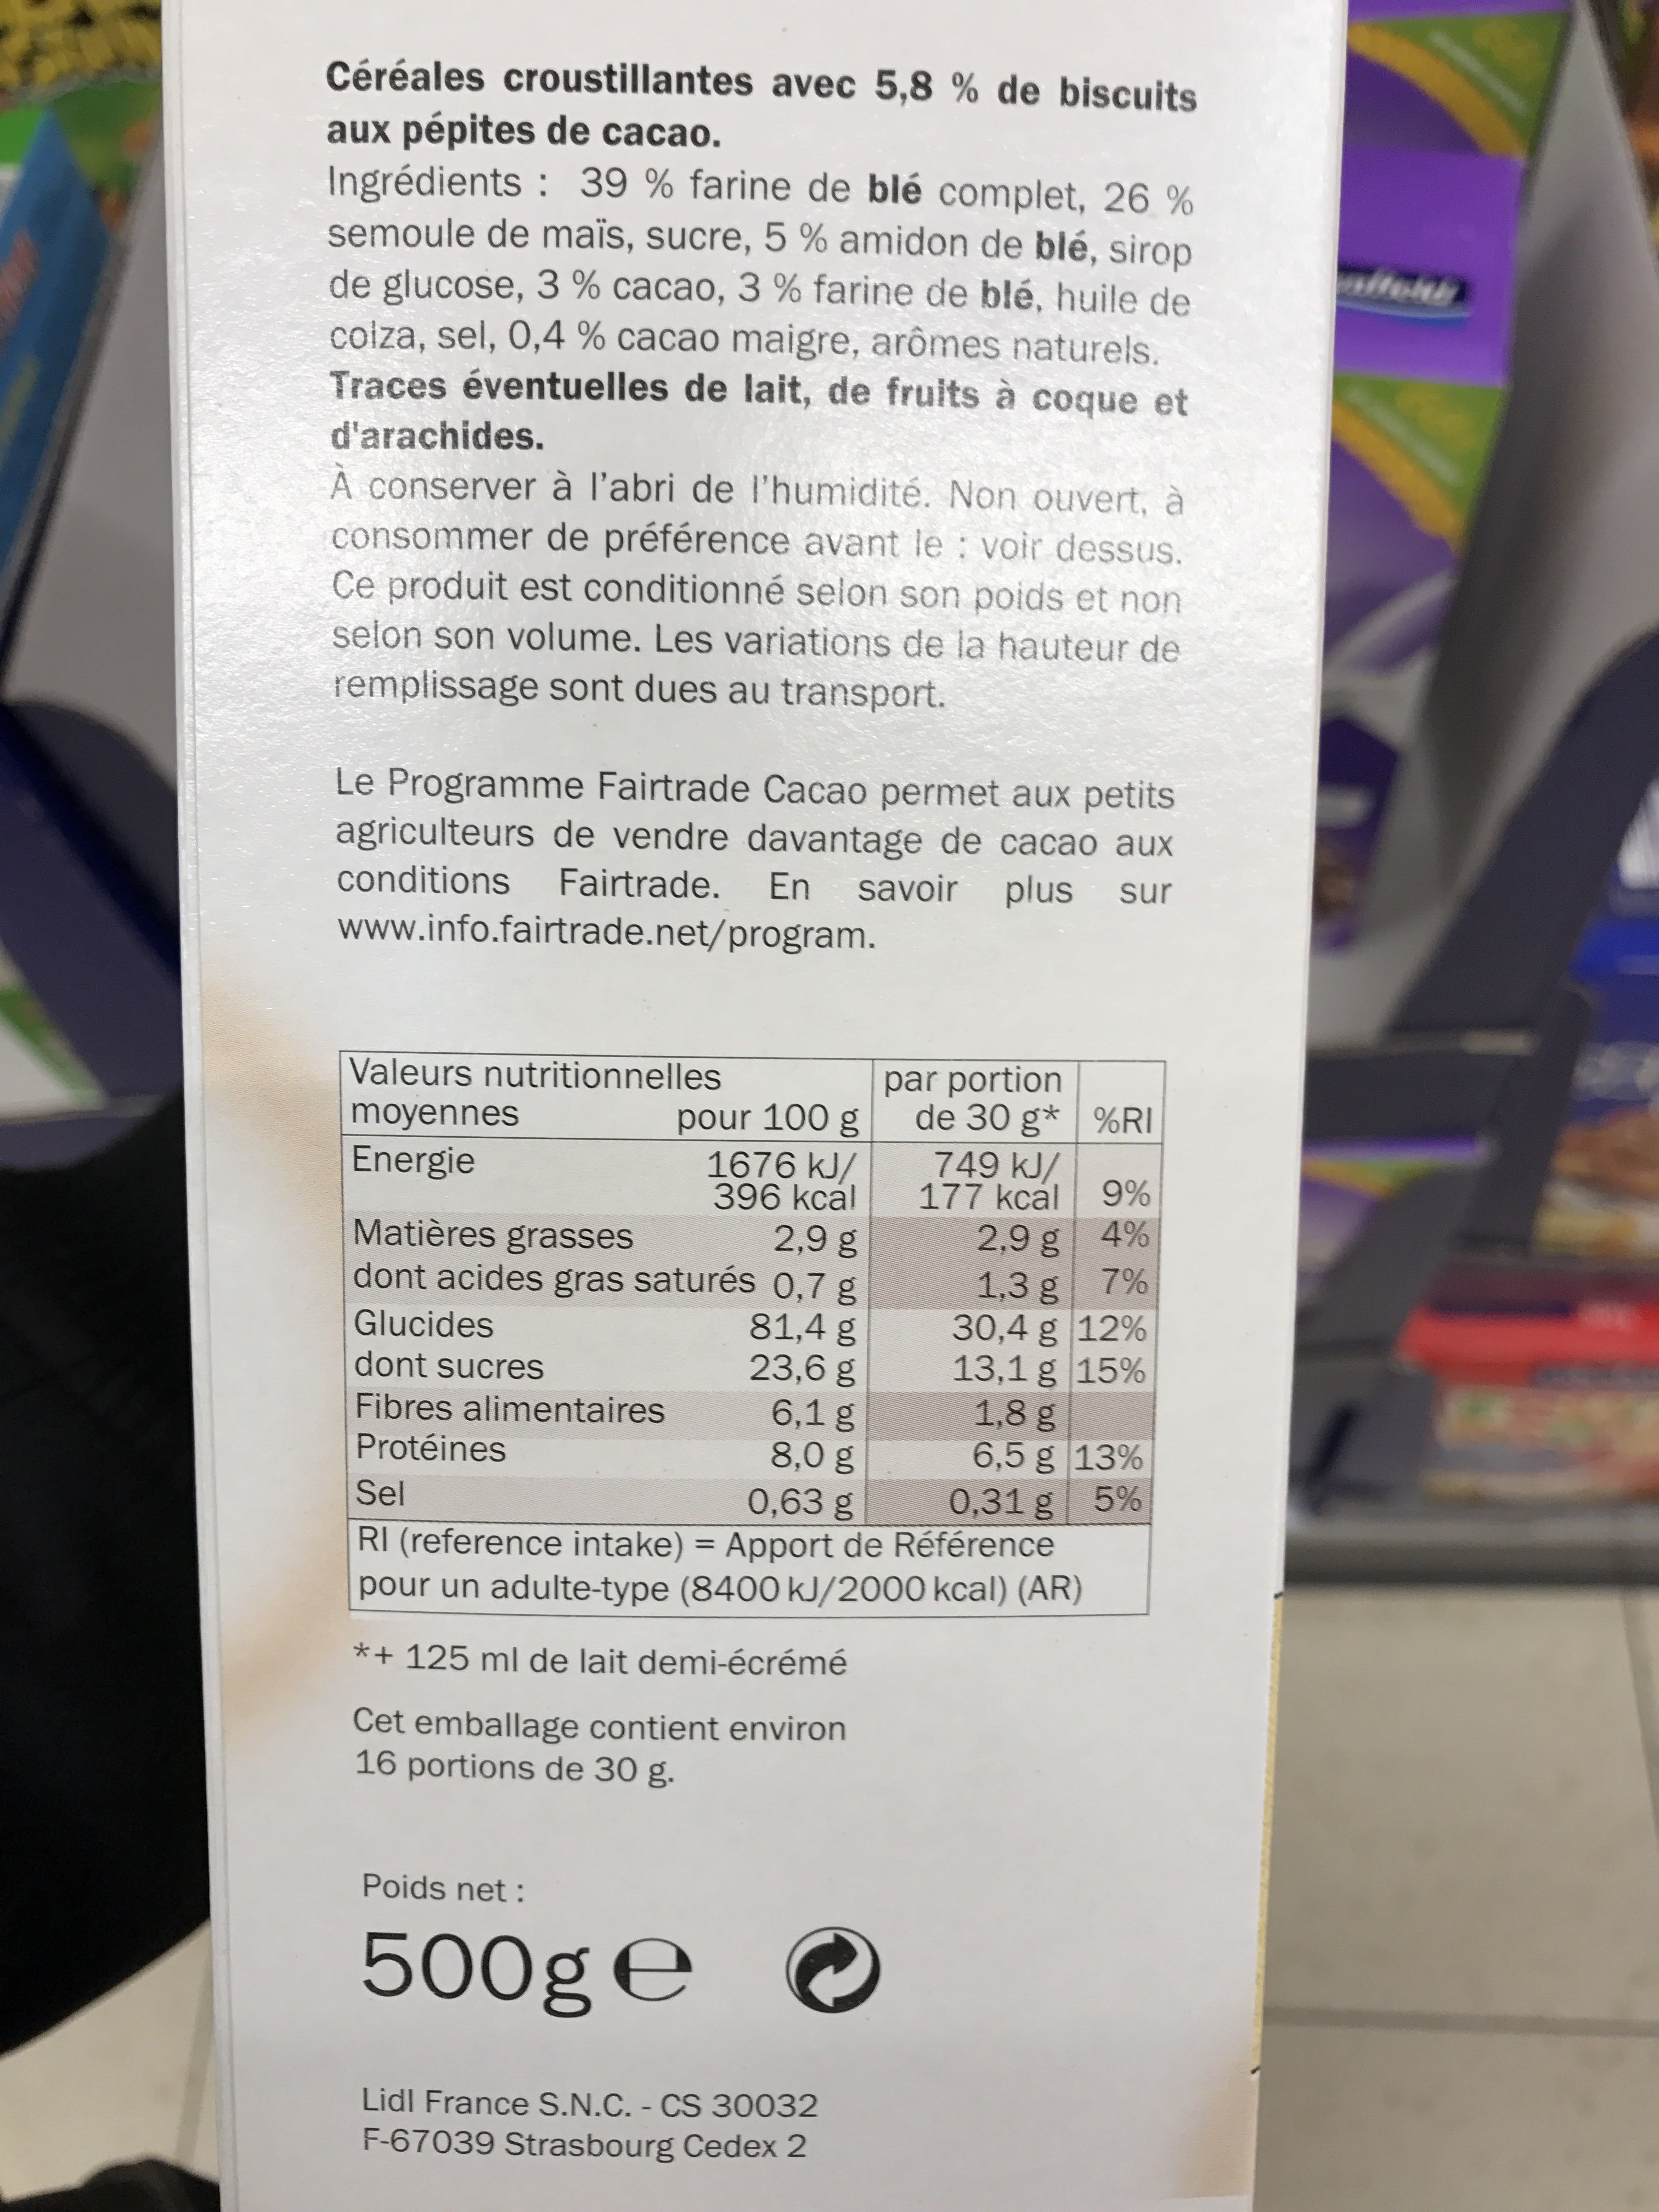column: (347, 1057, 859, 1521), (877, 1062, 1060, 1521), (1080, 1075, 1154, 1517)
table: (347, 1045, 1173, 1527)
